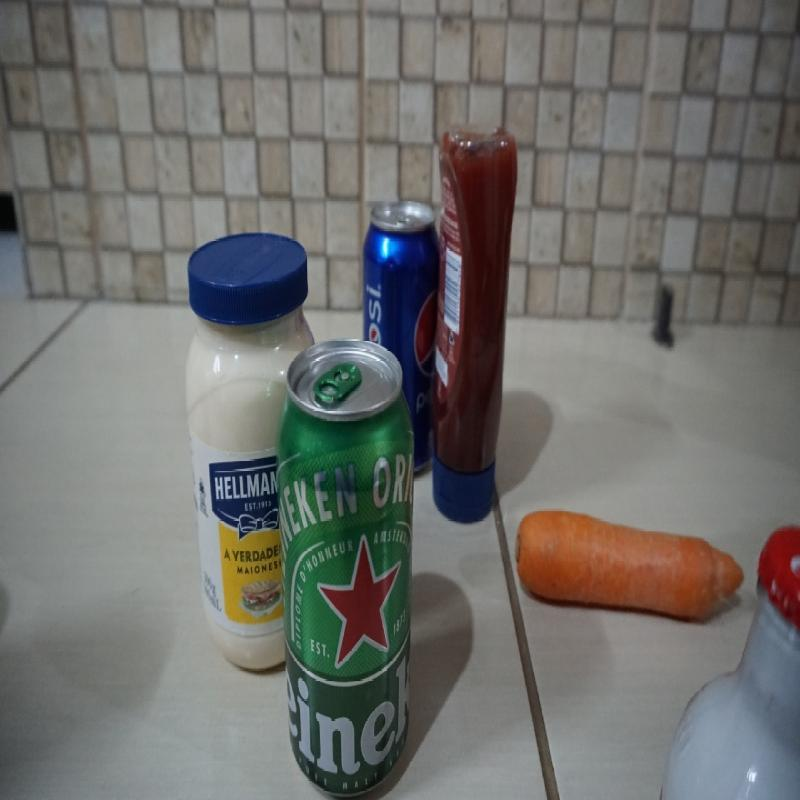Beer can: (277, 340, 416, 800)
Carrot: (516, 502, 744, 623)
Coconut Milk: (659, 525, 799, 800)
Ketchup: (432, 134, 518, 524)
Mayonnaise: (188, 232, 313, 668)
Soda can: (363, 206, 439, 474)
